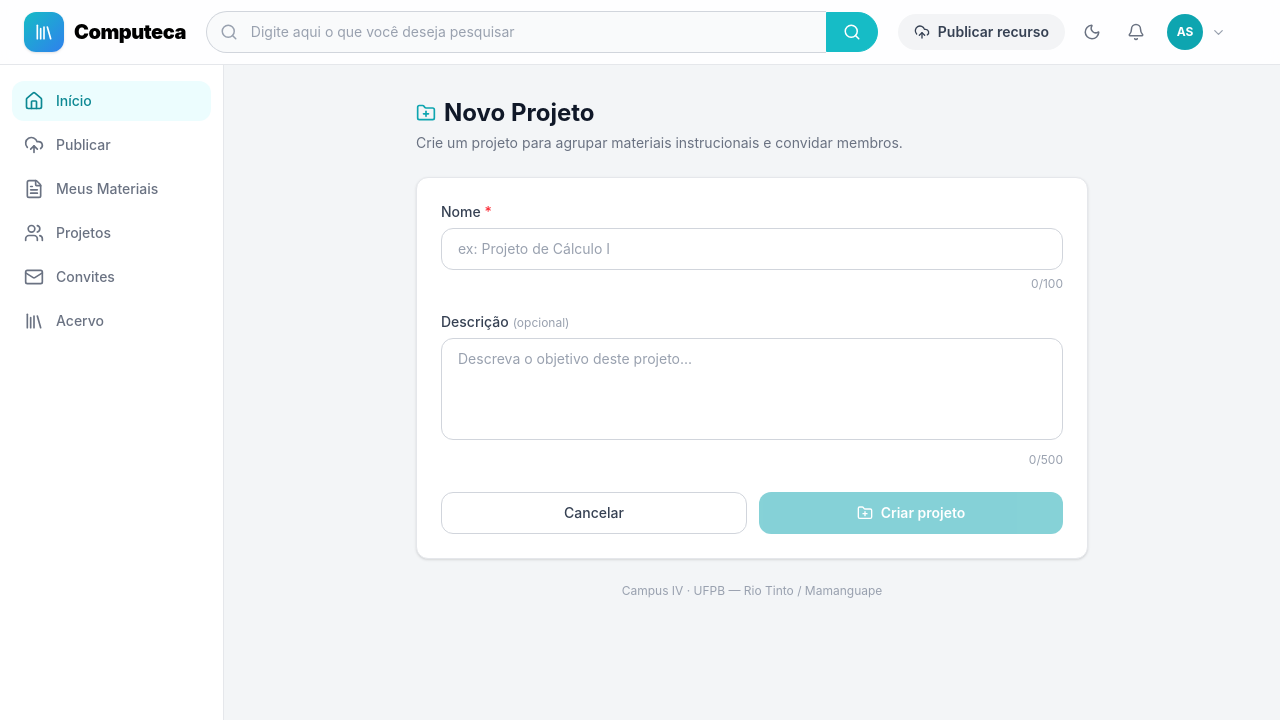
CreateOrganizationPage › cria o projeto e mostra o estado de sucesso
The image size is (1280, 720).
Type "Cálculo I" into the field labelled "Nome *".
click(752, 249); type("Cálculo I")  # box [441,228,1063,270]
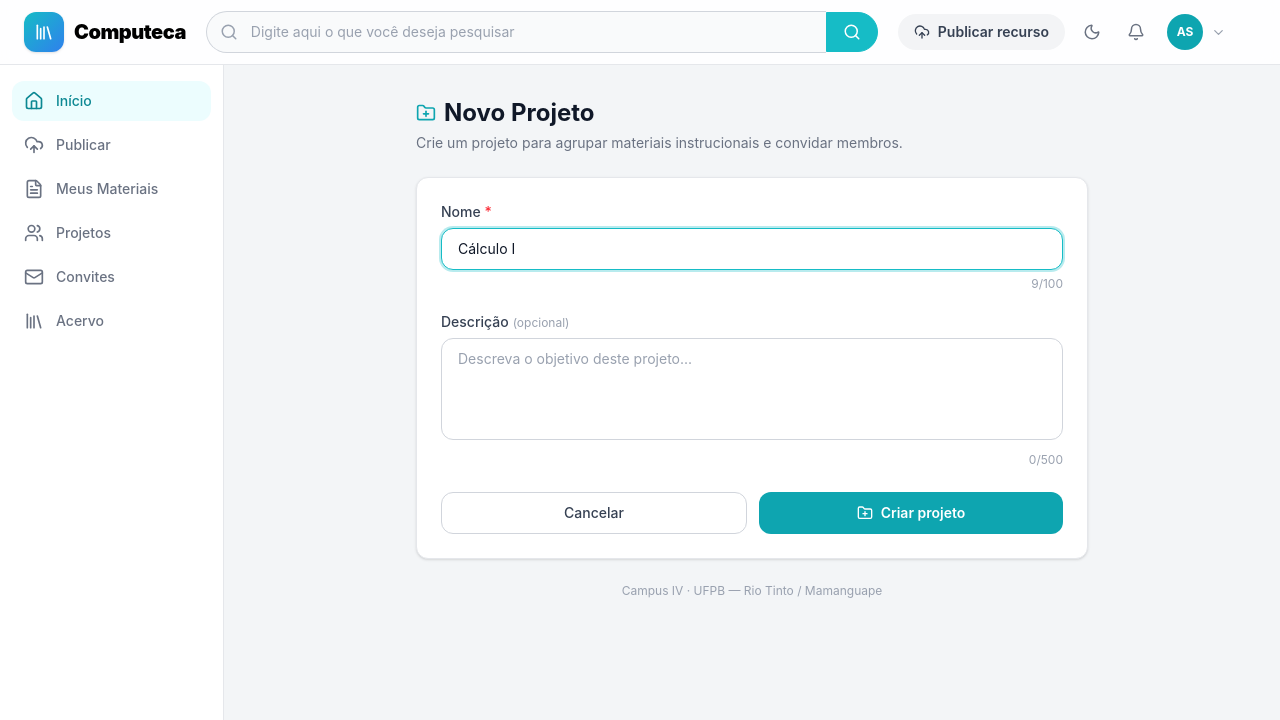
Click the button "Criar projeto".
click(911, 513)  # box [759,492,1063,534]
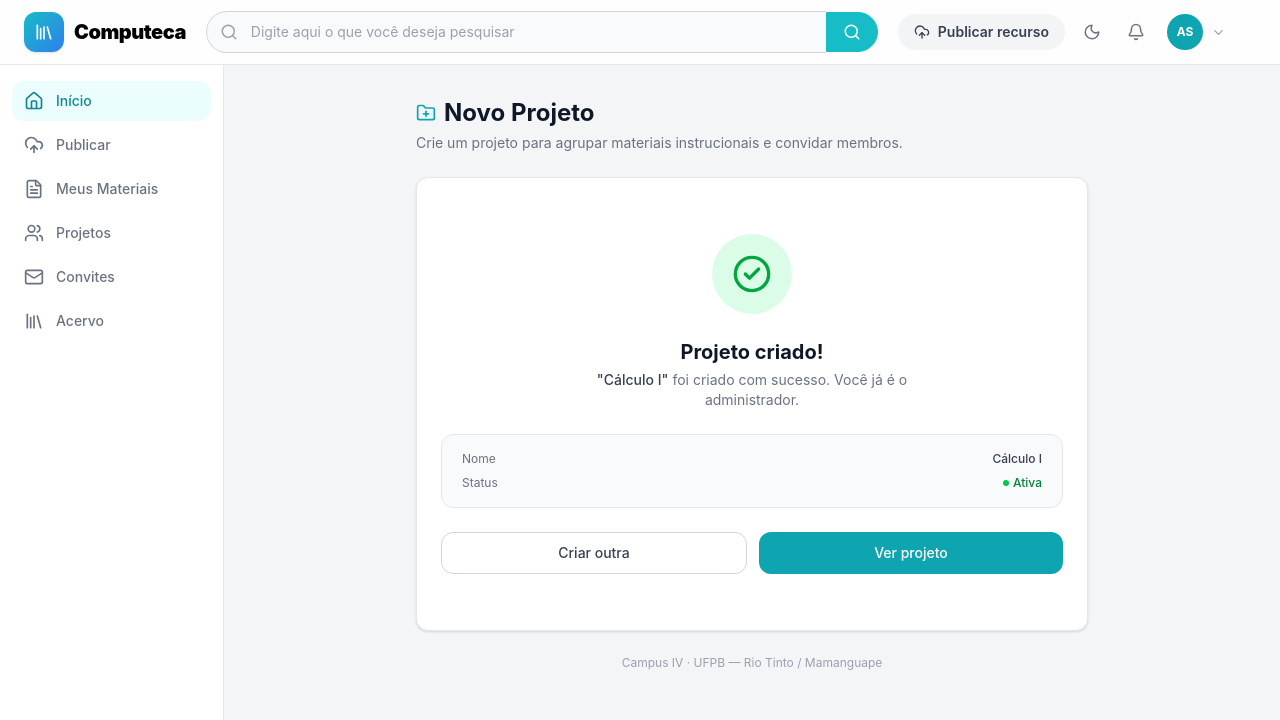
expect the heading "Projeto criado!" is shown: met, box [680,340,824,364]
